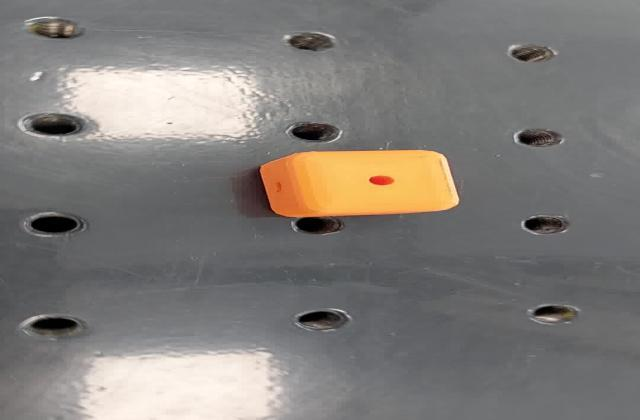cube: (248, 148, 466, 220)
